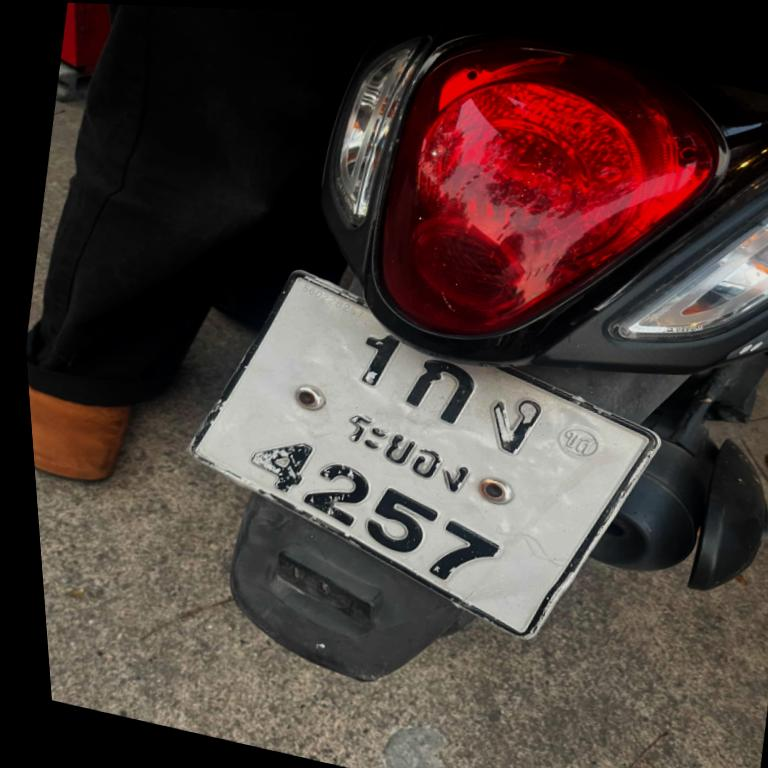license plate: (145, 244, 697, 674)
